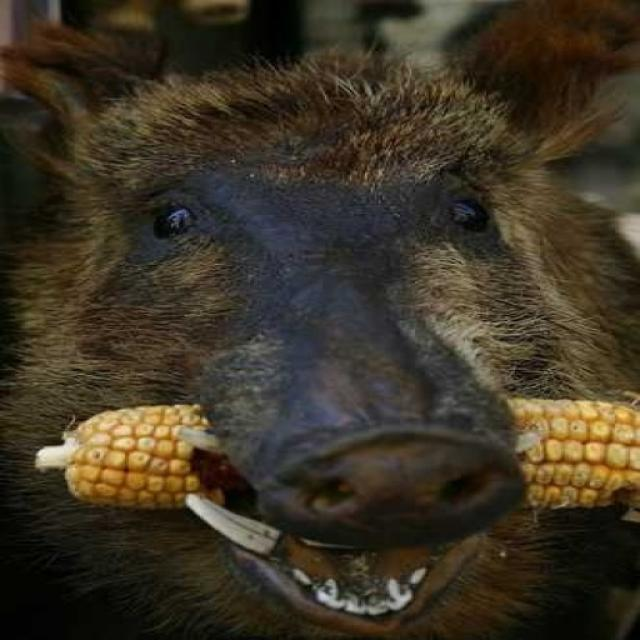pig: (24, 6, 639, 640)
